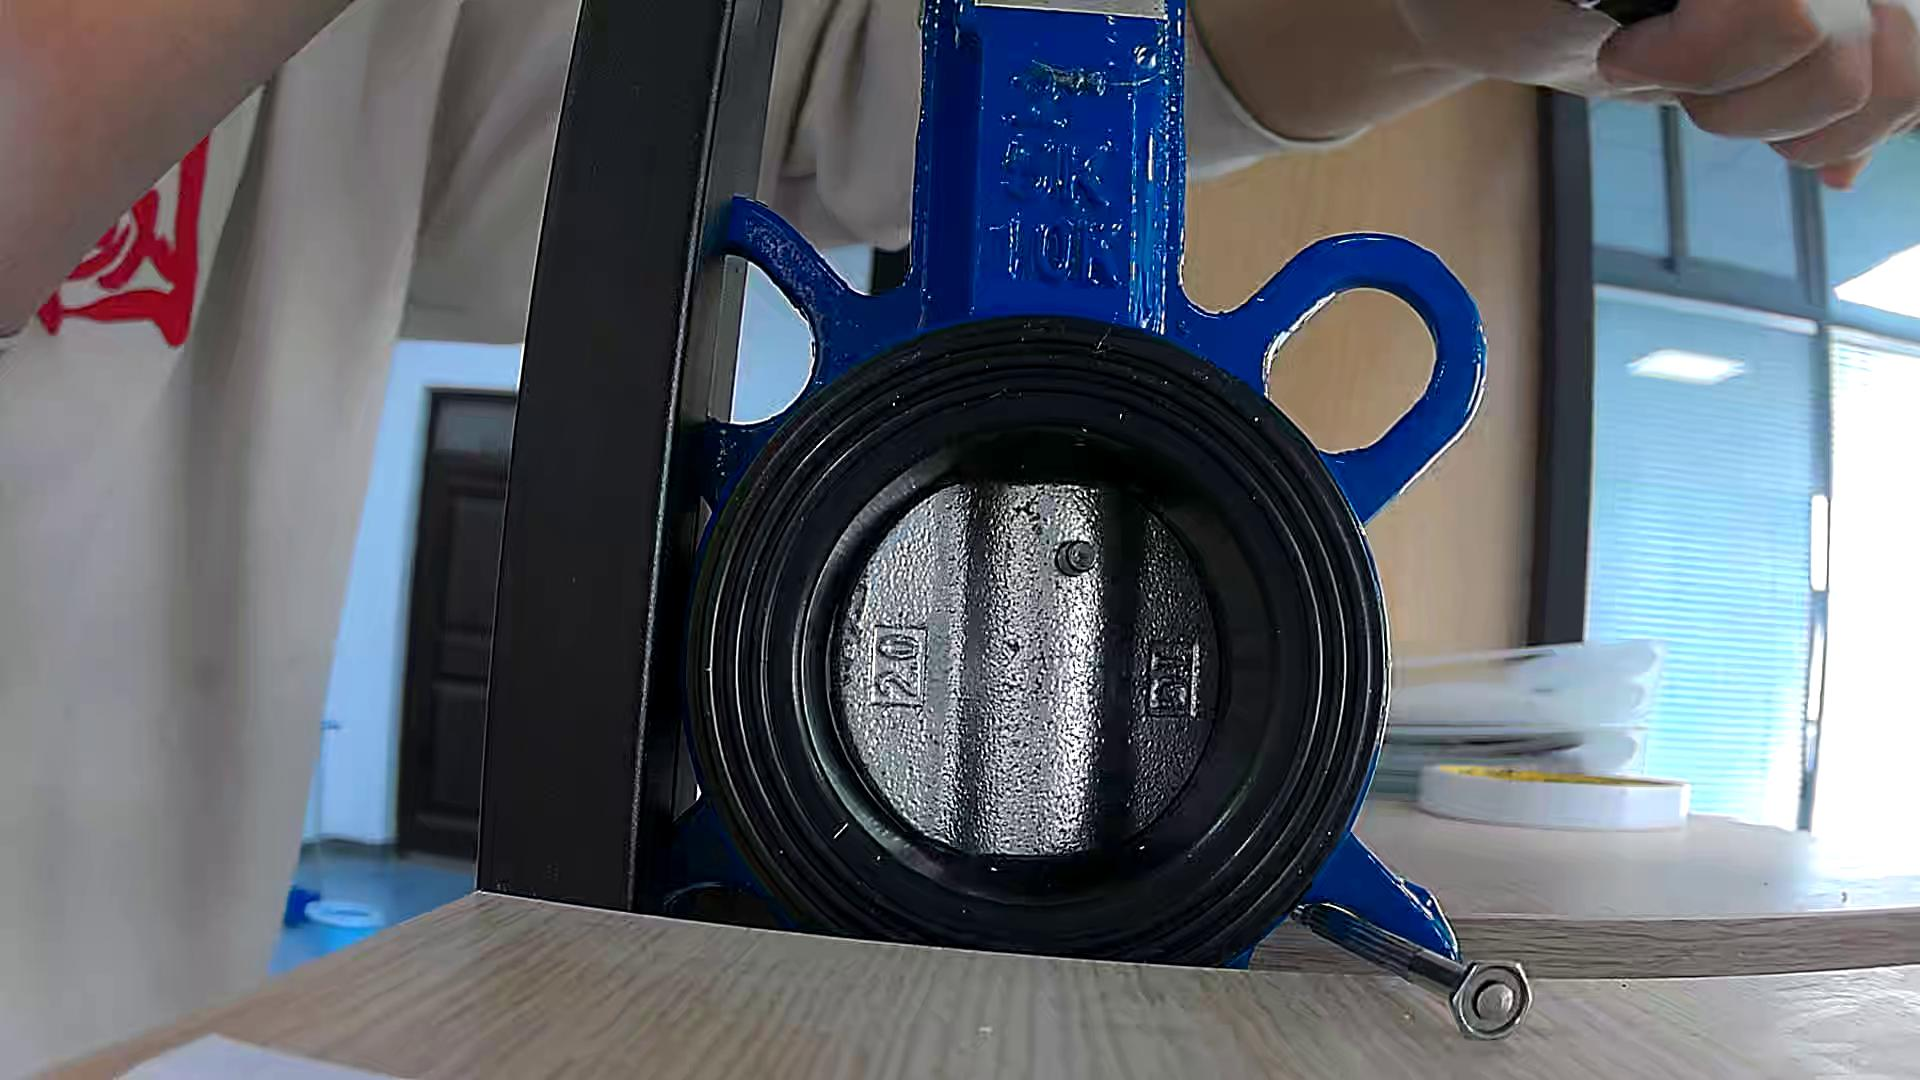valve: (838, 480, 1219, 857)
